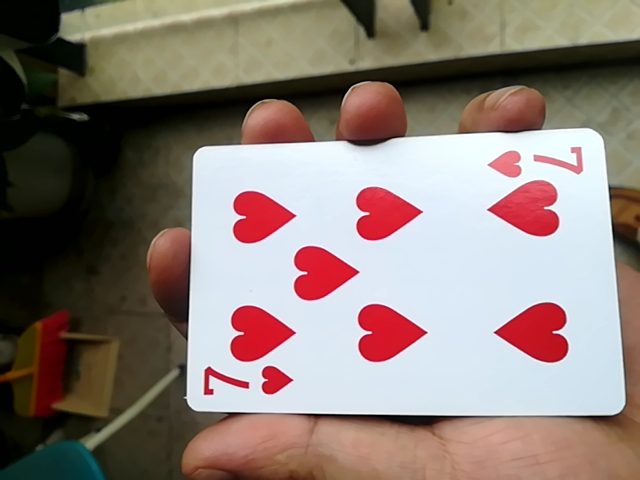hx 7: (171, 134, 617, 428)
